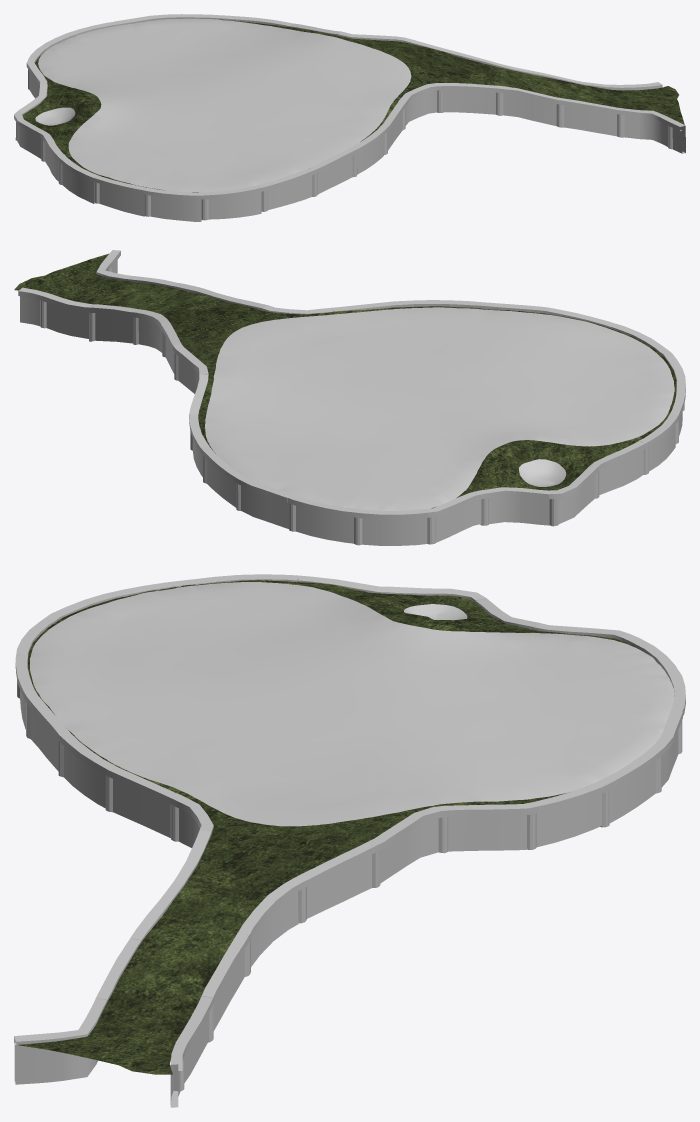
Rendered from TPCSawgrass_Hole17_Single03.fbx.
The picture shows the model from 3 angles, top to bottom: view 1: azimuth 30°, elevation 25°; view 2: azimuth 150°, elevation 25°; view 3: azimuth 270°, elevation 25°; orthographic projection. The views are drawn at different scales.
Parts seen in each view (by area): view 1: greens1, greens_Support, outerGreens, greensCollar2, hole17Sand; view 2: greens1, greens_Support, outerGreens, greensCollar2, hole17Sand; view 3: greens1, greens_Support, outerGreens, greensCollar2.
Boxes of the visible parts, <box> form: greens1: <box>53,24,384,185</box>; greens_Support: <box>14,14,685,221</box>; outerGreens: <box>23,19,684,192</box>; greensCollar2: <box>38,18,411,192</box>; hole17Sand: <box>35,107,75,125</box>; greens1: <box>223,314,656,503</box>; greens_Support: <box>18,250,685,545</box>; outerGreens: <box>14,253,676,508</box>; greensCollar2: <box>205,307,674,510</box>; hole17Sand: <box>519,459,566,486</box>; greens1: <box>53,590,649,806</box>; greens_Support: <box>14,574,685,1107</box>; outerGreens: <box>18,580,646,1074</box>; greensCollar2: <box>30,582,674,826</box>.
Bounding box in the file's own units: 42.81 × 5.35 × 27.75.
